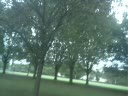window: (104, 61, 116, 86), (108, 19, 118, 47), (84, 26, 94, 51), (81, 61, 90, 82), (50, 64, 55, 78), (43, 63, 47, 76), (37, 64, 41, 73), (32, 64, 35, 73)
